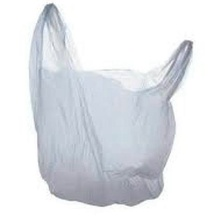plastic_bag: (27, 0, 200, 210)
